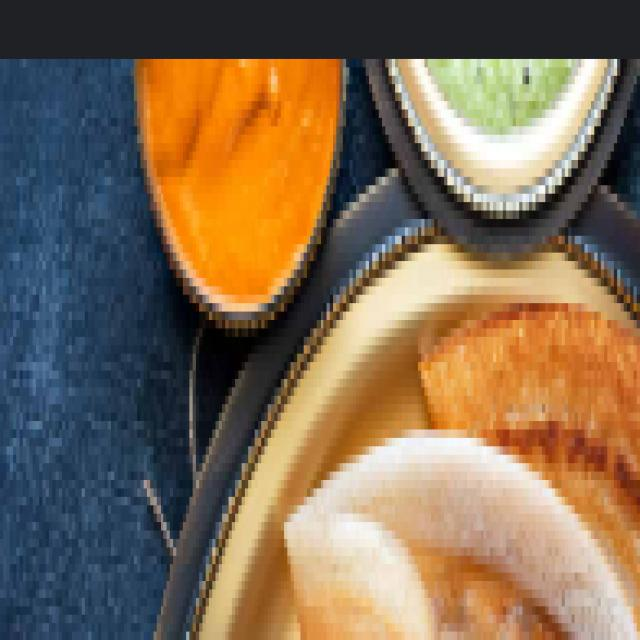dosa: (307, 320, 640, 632)
